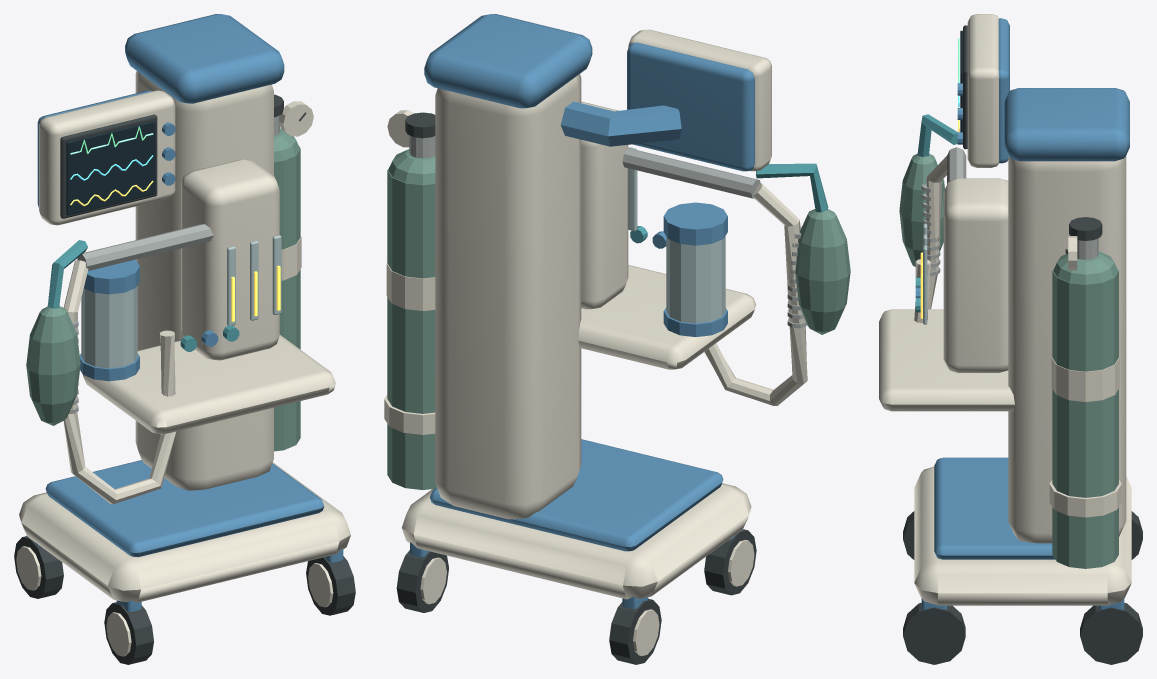
File: anesthesia_workstation_advanced.glb
The picture shows the model from 3 angles, left to right: view 1: azimuth 30°, elevation 25°; view 2: azimuth 150°, elevation 25°; view 3: azimuth 270°, elevation 25°; orthographic projection. The views are drawn at different scales.
Parts seen in each view (by area): view 1: STATIC_anesthesia_workstation_advanced; view 2: STATIC_anesthesia_workstation_advanced; view 3: STATIC_anesthesia_workstation_advanced.
Boxes of the visible parts, x1,y1,x2,y2 form: STATIC_anesthesia_workstation_advanced: (14, 14, 355, 664); STATIC_anesthesia_workstation_advanced: (384, 14, 850, 664); STATIC_anesthesia_workstation_advanced: (879, 14, 1142, 664).
Size of the model in its own units: 1.1 by 1.57 by 0.715.
